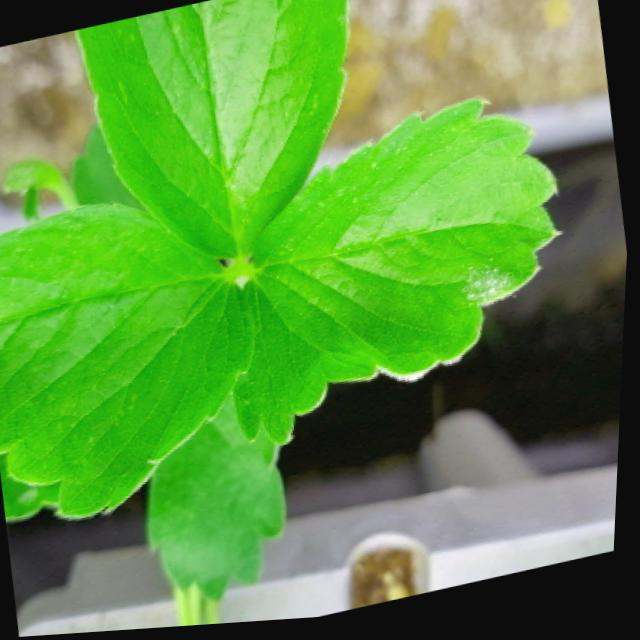Powdery Mildew Leaf: (249, 102, 569, 390)
